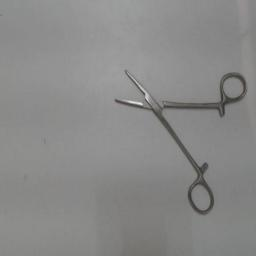Mayo Needle Holder: (110, 56, 250, 218)
